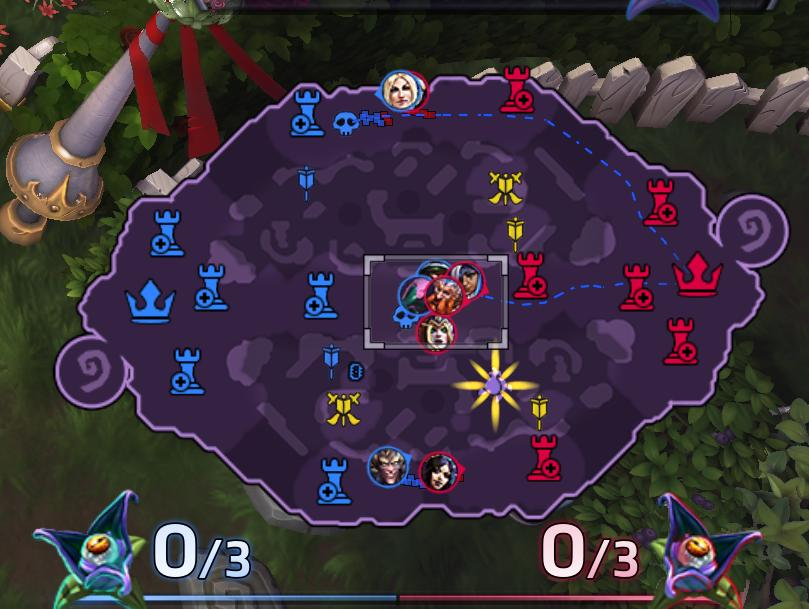blue player: (379, 68, 423, 120), (393, 271, 440, 317), (367, 445, 409, 486)
red player: (375, 69, 425, 114), (419, 450, 463, 493), (424, 275, 465, 317), (446, 261, 484, 303), (417, 313, 456, 352)
